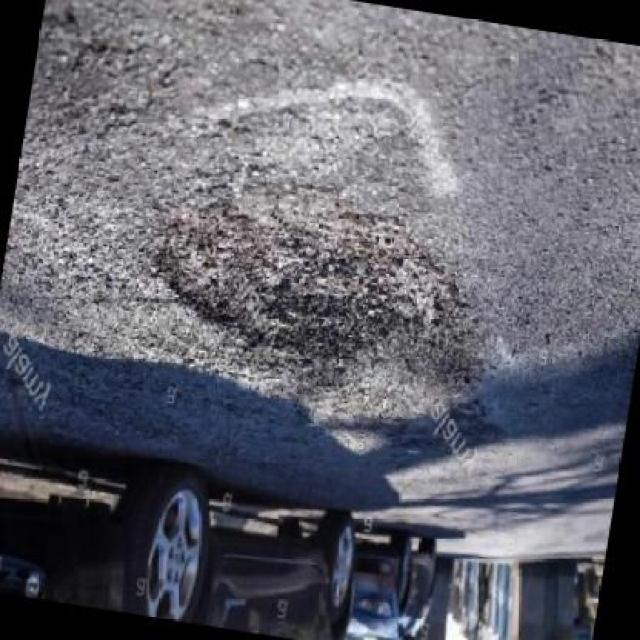pothole: (133, 162, 512, 400)
